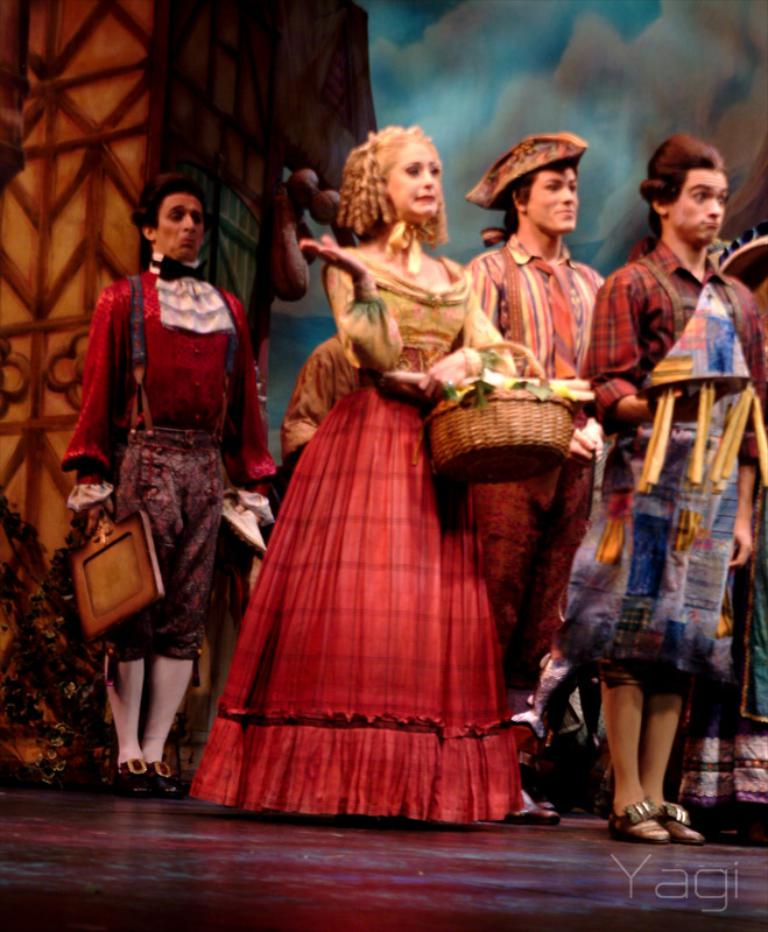Person: (60, 123, 767, 844)
